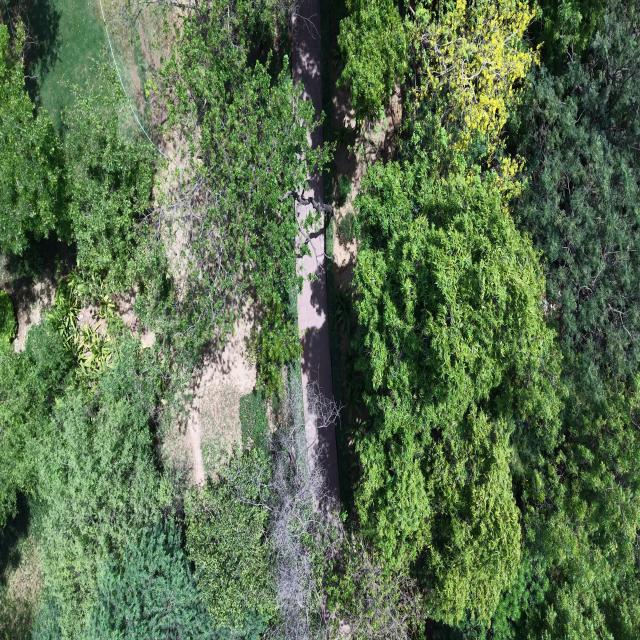DRY_AREA: (162, 301, 256, 486), (163, 304, 255, 485), (163, 306, 255, 485), (332, 87, 401, 291), (298, 228, 340, 503), (331, 69, 401, 228), (298, 232, 339, 498), (25, 0, 111, 120), (0, 269, 56, 351)
VEGETATION_TREE: (0, 0, 639, 639), (0, 5, 326, 638), (343, 2, 639, 638), (355, 2, 562, 629), (355, 163, 559, 623), (516, 2, 639, 638), (156, 2, 327, 395), (0, 321, 171, 637), (516, 2, 639, 410), (0, 23, 154, 287), (185, 390, 345, 639), (37, 341, 171, 637), (340, 0, 538, 172), (405, 0, 538, 172), (62, 68, 155, 291), (269, 385, 344, 639), (185, 444, 276, 637), (86, 520, 223, 639), (0, 23, 67, 253), (0, 322, 73, 525), (8, 0, 108, 127), (325, 533, 421, 639), (338, 0, 408, 118), (0, 499, 39, 639), (0, 291, 16, 342), (338, 212, 355, 242)
